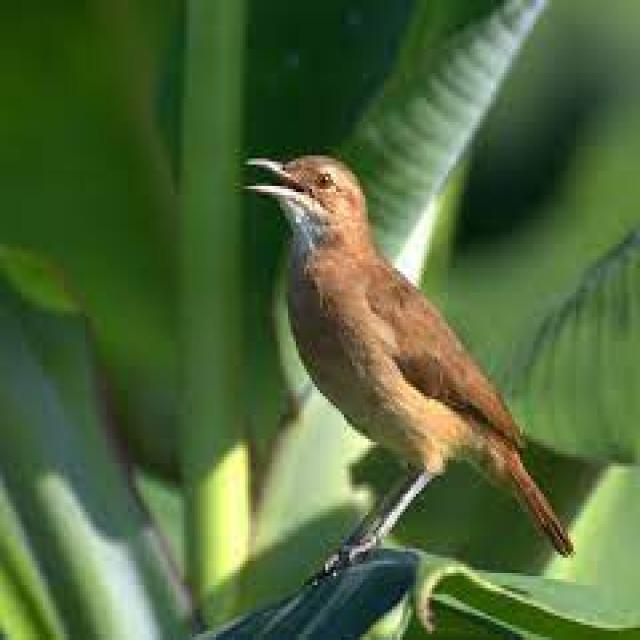bird: (218, 129, 598, 599)
